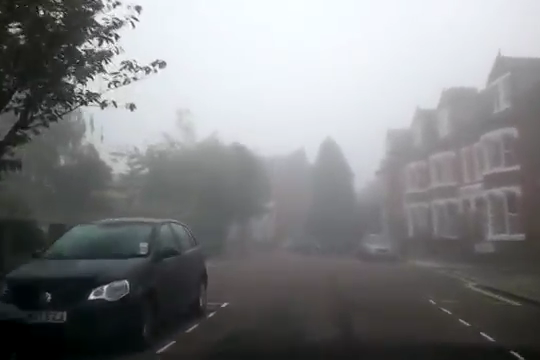car: (1, 218, 209, 354), (356, 231, 393, 259)
